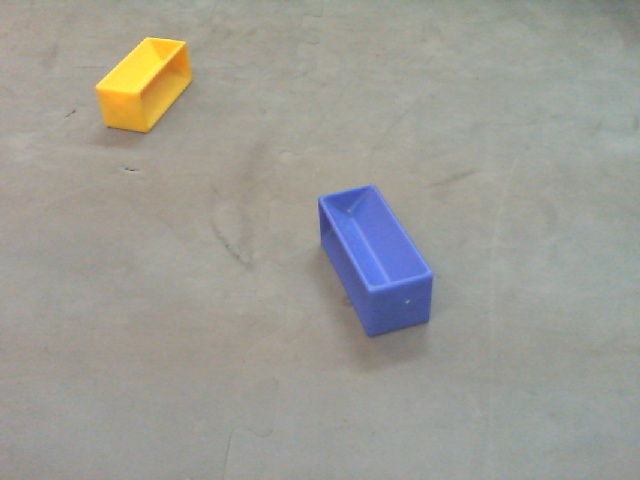BlueSample: (310, 184, 440, 339)
YellowSample: (93, 33, 195, 136)
